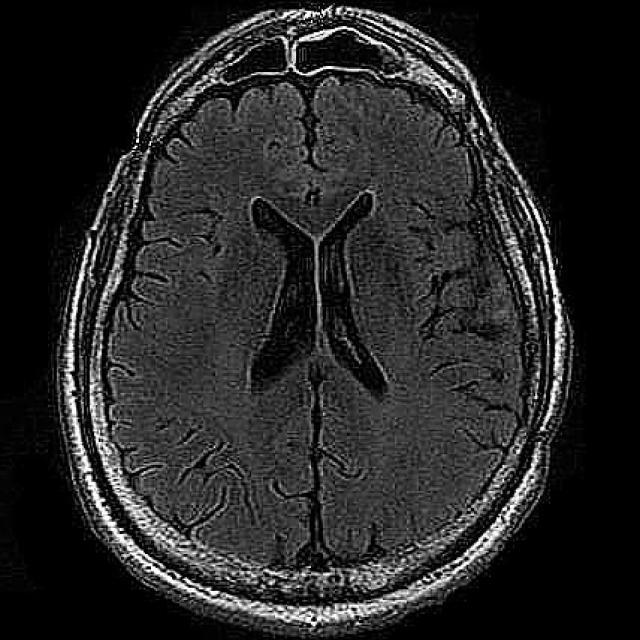notumor: (57, 6, 573, 637)
